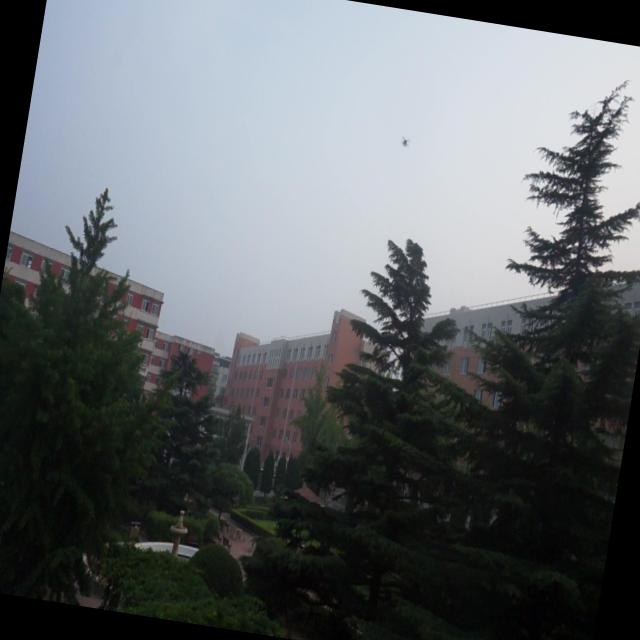drone: (396, 130, 414, 154)
